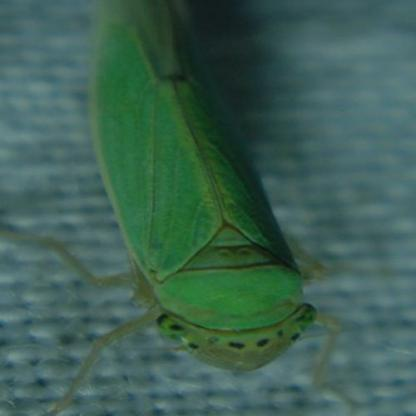green-leafhopper: (63, 2, 347, 374)
